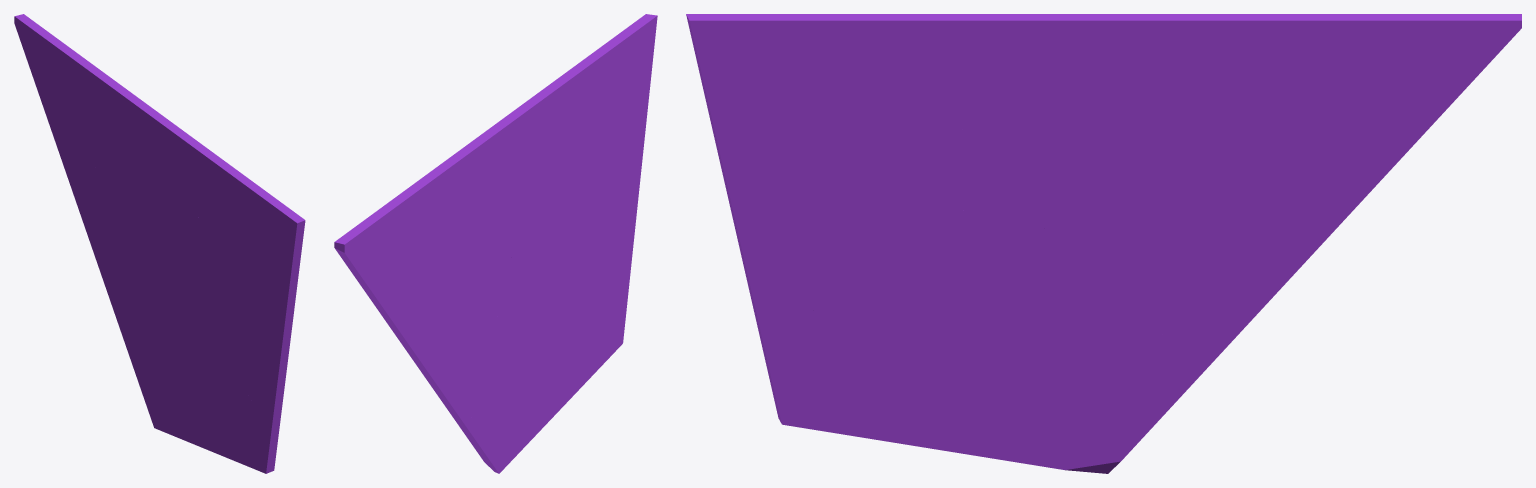
The model's file is Glass_84_6_7_chunks.fbx.
3 renders of one model, left to right at view 1: azimuth 30°, elevation 25°; view 2: azimuth 150°, elevation 25°; view 3: azimuth 270°, elevation 25°, orthographic. The views are drawn at different scales.
Visible parts, largest first — view 1: Glass_84_6_7_1, Glass_84_6_7_10, Glass_84_6_7_3, Glass_84_6_7_12, Glass_84_6_7_4, Glass_84_6_7_5, Glass_84_6_7_11, Glass_84_6_7_13, Glass_84_6_7_2, Glass_84_6_7_9, Glass_84_6_7_7, Glass_84_6_7_15 (+9 smaller); view 2: Glass_84_6_7_10, Glass_84_6_7_1, Glass_84_6_7_3, Glass_84_6_7_12, Glass_84_6_7_4, Glass_84_6_7_11, Glass_84_6_7_5, Glass_84_6_7_2, Glass_84_6_7_9, Glass_84_6_7_13, Glass_84_6_7_7, Glass_84_6_7_18 (+10 smaller); view 3: Glass_84_6_7_3, Glass_84_6_7_6, Glass_84_6_7_1, Glass_84_6_7_11, Glass_84_6_7_10, Glass_84_6_7_8, Glass_84_6_7_5, Glass_84_6_7_9, Glass_84_6_7_13, Glass_84_6_7_2, Glass_84_6_7_18, Glass_84_6_7_12 (+8 smaller).
Boxes of the visible parts, box(x1,y1,x2,y2) form: Glass_84_6_7_1: box(237, 206, 305, 374); Glass_84_6_7_10: box(14, 14, 95, 207); Glass_84_6_7_3: box(200, 334, 281, 473); Glass_84_6_7_12: box(94, 164, 158, 310); Glass_84_6_7_4: box(126, 287, 200, 389); Glass_84_6_7_5: box(136, 374, 227, 457); Glass_84_6_7_11: box(78, 179, 141, 347); Glass_84_6_7_13: box(62, 47, 129, 173); Glass_84_6_7_2: box(158, 218, 244, 276); Glass_84_6_7_9: box(133, 175, 206, 250); Glass_84_6_7_7: box(105, 82, 179, 176); Glass_84_6_7_15: box(236, 338, 287, 428); Glass_84_6_7_10: box(334, 205, 434, 353); Glass_84_6_7_1: box(591, 14, 657, 213); Glass_84_6_7_3: box(550, 285, 629, 387); Glass_84_6_7_12: box(432, 231, 504, 364); Glass_84_6_7_4: box(456, 322, 550, 444); Glass_84_6_7_11: box(402, 296, 484, 429); Glass_84_6_7_5: box(466, 357, 580, 473); Glass_84_6_7_2: box(504, 95, 599, 287); Glass_84_6_7_9: box(475, 161, 556, 270); Glass_84_6_7_13: box(384, 179, 472, 275); Glass_84_6_7_7: box(444, 114, 522, 201); Glass_84_6_7_18: box(508, 91, 565, 171); Glass_84_6_7_3: box(760, 265, 973, 441); Glass_84_6_7_6: box(942, 220, 1166, 376); Glass_84_6_7_1: box(686, 14, 860, 257); Glass_84_6_7_11: box(1134, 154, 1339, 379); Glass_84_6_7_10: box(1287, 14, 1521, 224); Glass_84_6_7_8: box(1048, 14, 1296, 145); Glass_84_6_7_5: box(890, 367, 1169, 473); Glass_84_6_7_9: box(934, 84, 1173, 222); Glass_84_6_7_13: box(1178, 14, 1388, 158); Glass_84_6_7_2: box(843, 95, 1066, 233); Glass_84_6_7_18: box(934, 14, 1057, 126); Glass_84_6_7_12: box(1098, 141, 1252, 279).
Bounding box in the file's own units: 27.2 × 859 × 1423.
